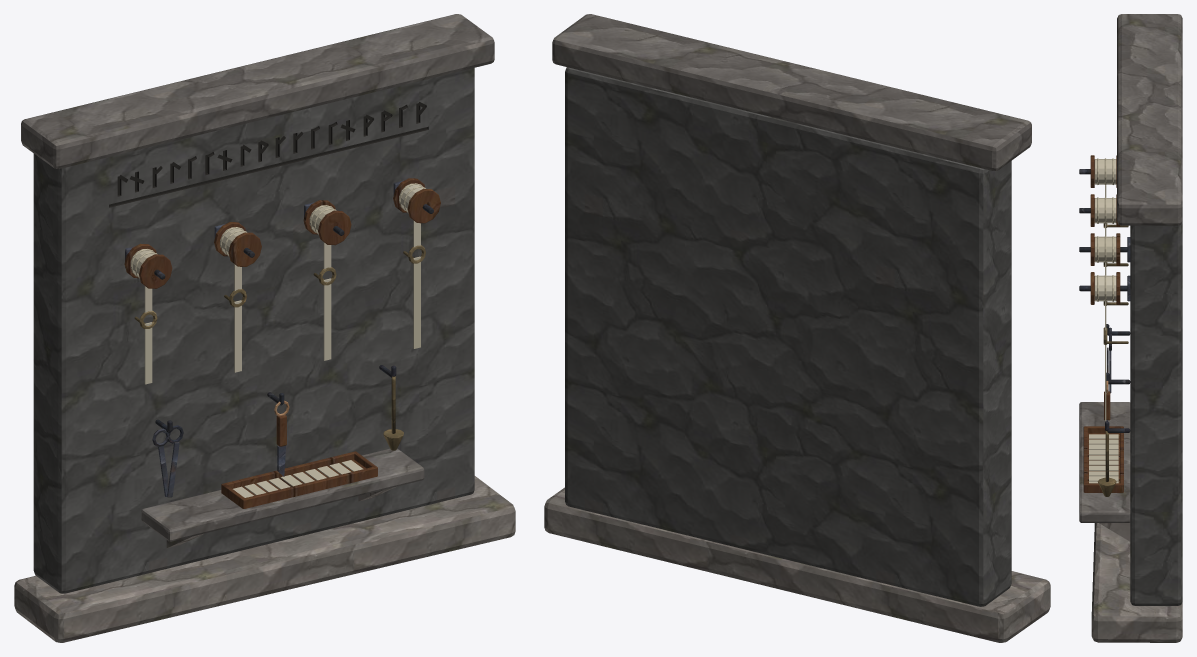
Rendered from rs_wick_board.glb.
The picture shows the model from 3 angles, left to right: view 1: azimuth 30°, elevation 25°; view 2: azimuth 150°, elevation 25°; view 3: azimuth 270°, elevation 25°; orthographic projection. The views are drawn at different scales.
Visible parts, largest first — view 1: model; view 2: model; view 3: model.
Boxes of the visible parts, <box> form: model: <box>14,14,515,642</box>; model: <box>544,14,1050,642</box>; model: <box>1079,14,1182,642</box>.
Bounding box in the file's own units: 1.43 × 1.47 × 0.315.
Materials: 28 (9 with a texture image).
